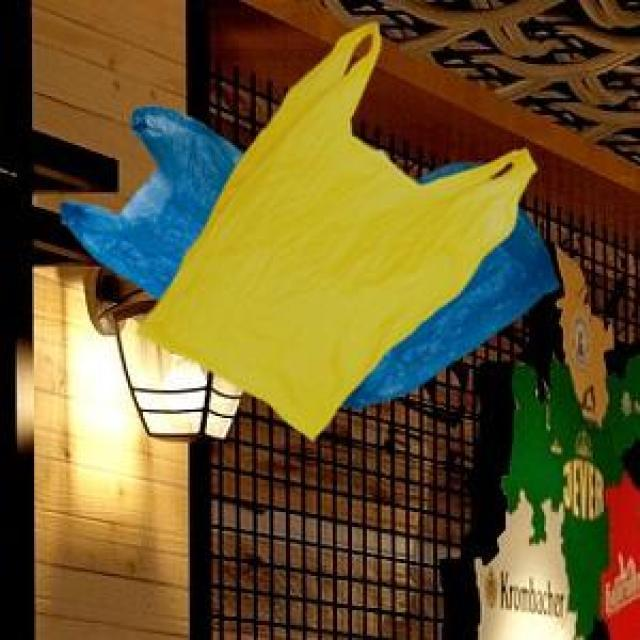Bolsa-de-nilon: (53, 22, 570, 438)
